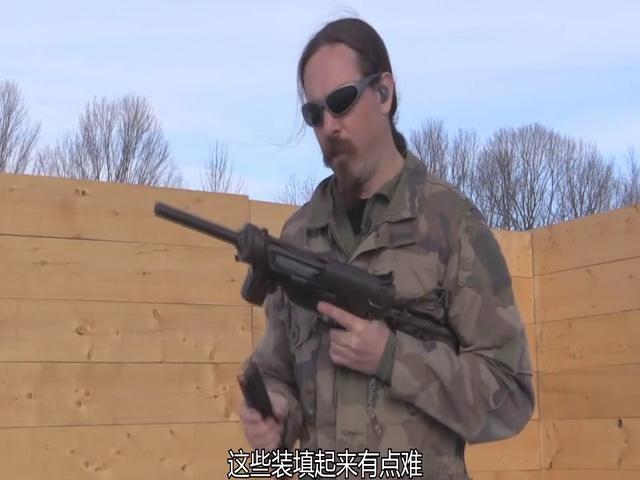gun: (140, 177, 498, 459)
